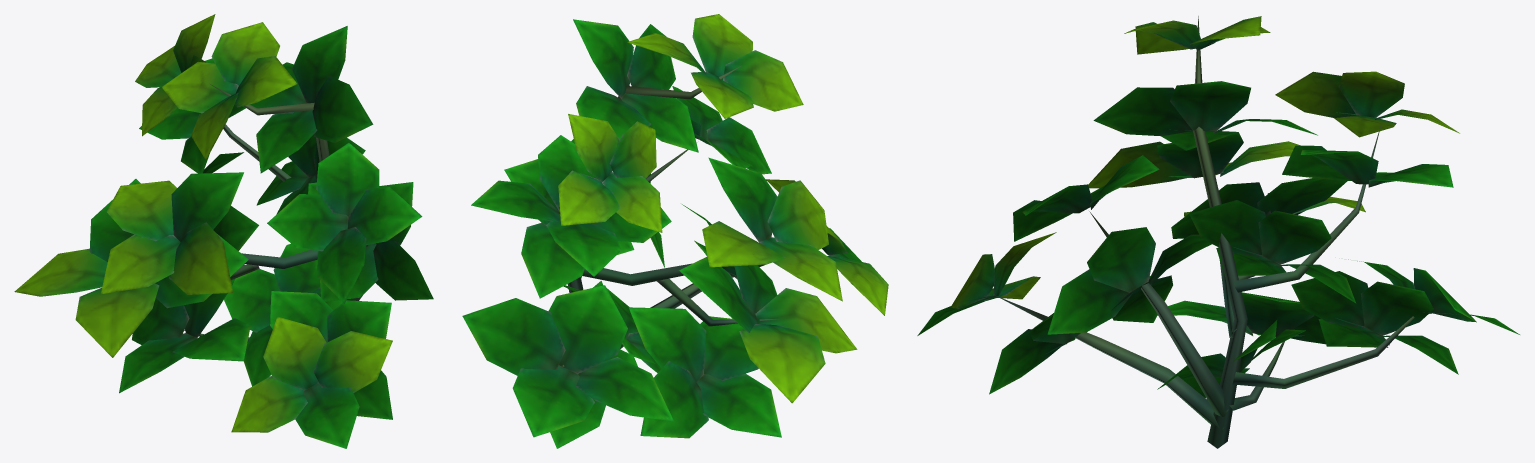
File: scenes_village_plant01.FBX
3 renders of one model, left to right at view 1: azimuth 30°, elevation 25°; view 2: azimuth 150°, elevation 25°; view 3: azimuth 270°, elevation 25°, orthographic. The views are drawn at different scales.
Visible parts, largest first — view 1: scenes_village_plant01; view 2: scenes_village_plant01; view 3: scenes_village_plant01.
Part boxes in pixels (<box>): scenes_village_plant01: <box>14,14,433,448</box>; scenes_village_plant01: <box>462,14,888,448</box>; scenes_village_plant01: <box>917,16,1519,448</box>.
Bounding box in the file's own units: 83.61 × 93.7 × 132.
